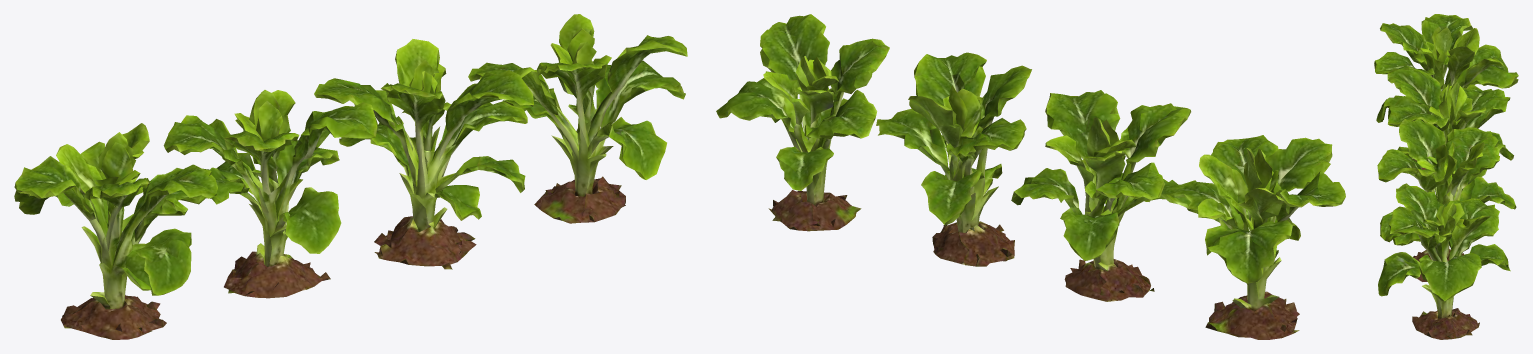
File: crop_young_lite.glb
3 renders of one model, left to right at view 1: azimuth 30°, elevation 25°; view 2: azimuth 150°, elevation 25°; view 3: azimuth 270°, elevation 25°, orthographic. The views are drawn at different scales.
Parts seen in each view (by area): view 1: geometry_0; view 2: geometry_0; view 3: geometry_0.
Boxes of the visible parts, x1=… form: geometry_0: x1=14, y1=14, x2=687, y2=339; geometry_0: x1=716, y1=14, x2=1345, y2=339; geometry_0: x1=1374, y1=14, x2=1518, y2=339.
Size of the model in its own units: 1.9 by 0.5056 by 0.4923.
Materials: 1 (1 with a texture image).
